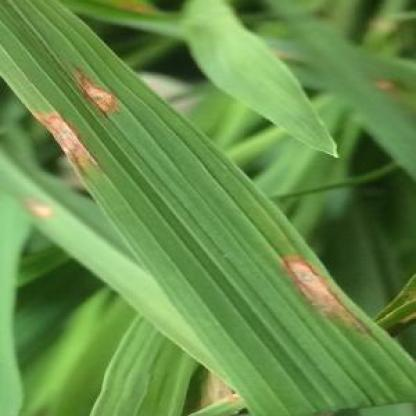Rice blast: (277, 240, 384, 342), (32, 107, 111, 193), (68, 66, 127, 122)
